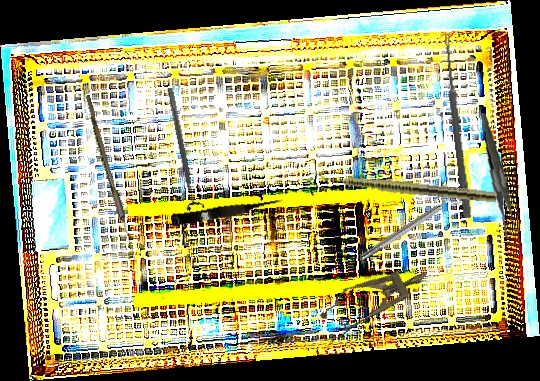Dressing Forceps: (469, 113, 530, 240)
Fixation Ring: (356, 186, 464, 266), (160, 85, 206, 212)
Handpiece: (312, 170, 498, 204)
Micro Scissor: (170, 195, 285, 229)
Speculum: (312, 253, 437, 345)
Surgical Spoon: (81, 94, 141, 264), (441, 32, 473, 219)
